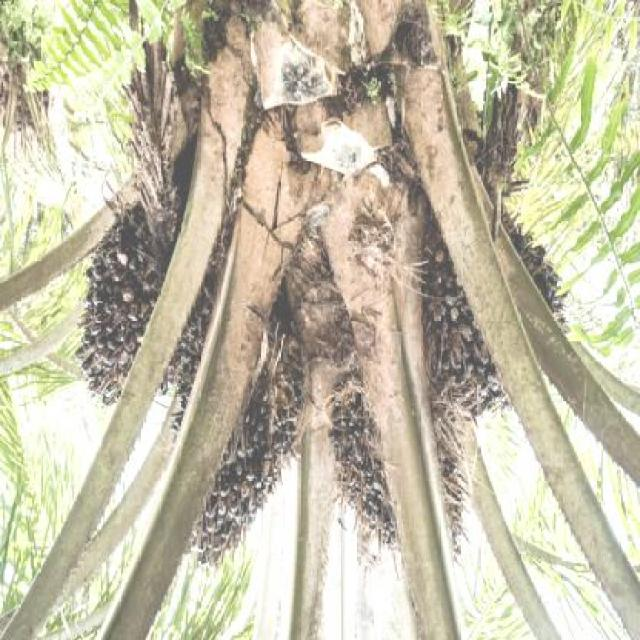palm-oil: (410, 191, 568, 410), (320, 342, 472, 546), (184, 298, 298, 546), (62, 206, 195, 390)
